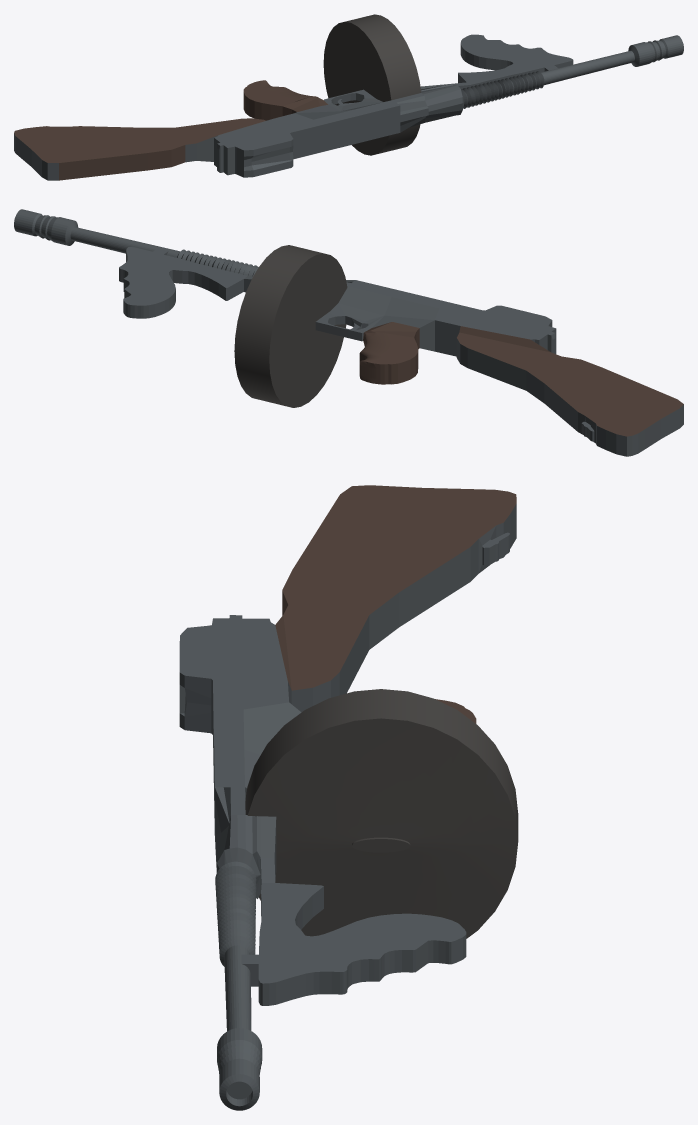
The model's file is Thompson 1928.fbx.
3 renders of one model, top to bottom at view 1: azimuth 30°, elevation 25°; view 2: azimuth 150°, elevation 25°; view 3: azimuth 270°, elevation 25°, orthographic. The views are drawn at different scales.
Visible parts, largest first — view 1: Cylinder.003, Cylinder; view 2: Cylinder.003, Cylinder; view 3: Cylinder.003, Cylinder.
Boxes of the visible parts, <box> form: Cylinder.003: <box>14,34,683,180</box>; Cylinder: <box>323,14,421,155</box>; Cylinder.003: <box>14,209,683,456</box>; Cylinder: <box>234,245,347,407</box>; Cylinder.003: <box>179,485,516,1110</box>; Cylinder: <box>245,689,518,938</box>.
Bounding box in the file's own units: 943 × 185 × 228.
